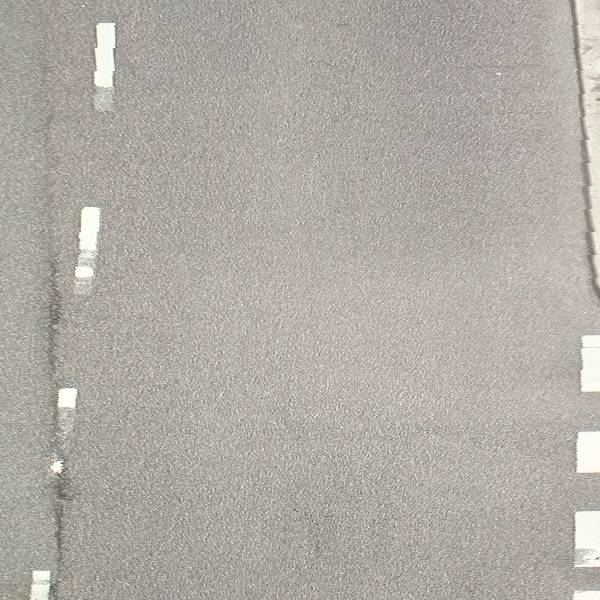road_damage: (43, 255, 66, 374), (52, 475, 71, 571)
